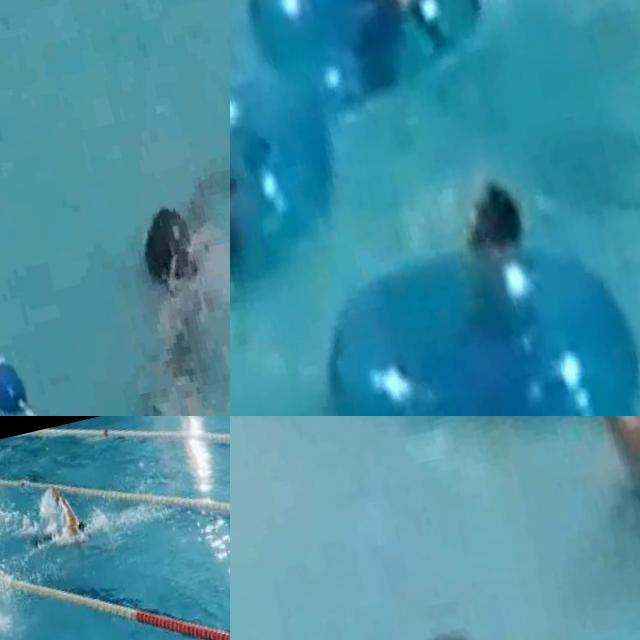drowning: (65, 126, 230, 416), (416, 115, 550, 262), (386, 584, 518, 640)
swimming: (547, 416, 640, 542), (7, 481, 98, 566)
